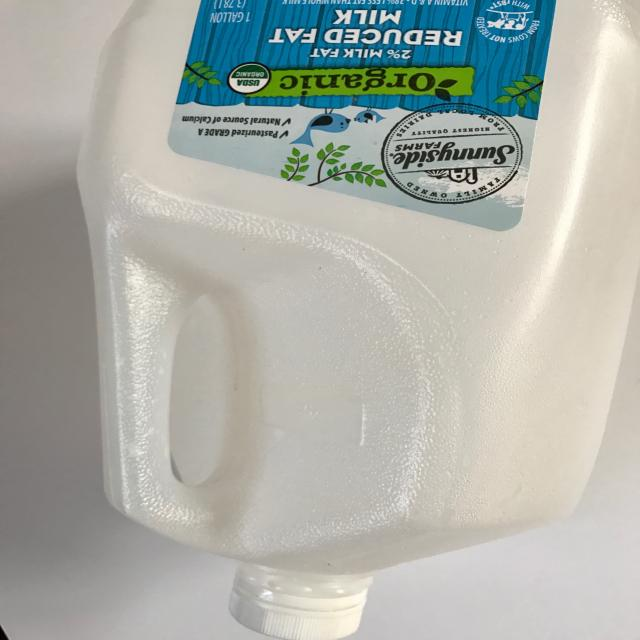plastic: (74, 0, 638, 637)
